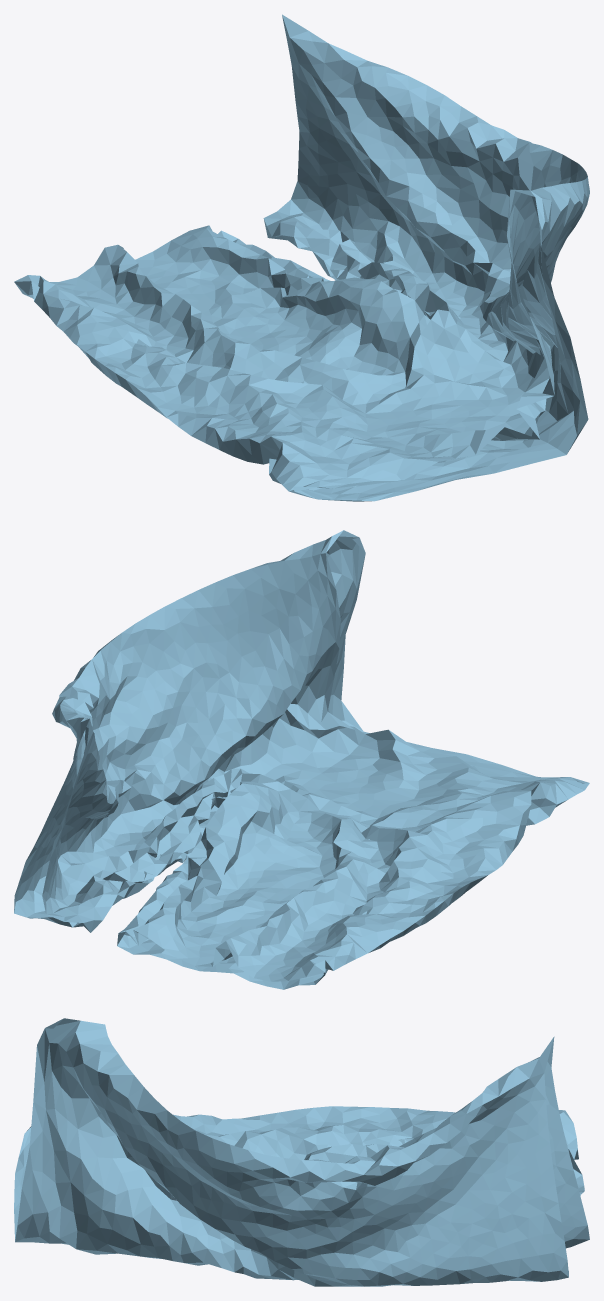
File: frame_10.glb
3 views of the same model, one above another, from view 1: azimuth 30°, elevation 25°; view 2: azimuth 150°, elevation 25°; view 3: azimuth 270°, elevation 25° (orthographic). The views are drawn at different scales.
Visible parts, largest first — view 1: frame_10.obj; view 2: frame_10.obj; view 3: frame_10.obj.
Boxes of the visible parts, <box> form: frame_10.obj: <box>14,14,589,501</box>; frame_10.obj: <box>14,530,589,989</box>; frame_10.obj: <box>14,1018,589,1286</box>.
Size of the model in its own units: 1.17 by 0.6704 by 1.5.
